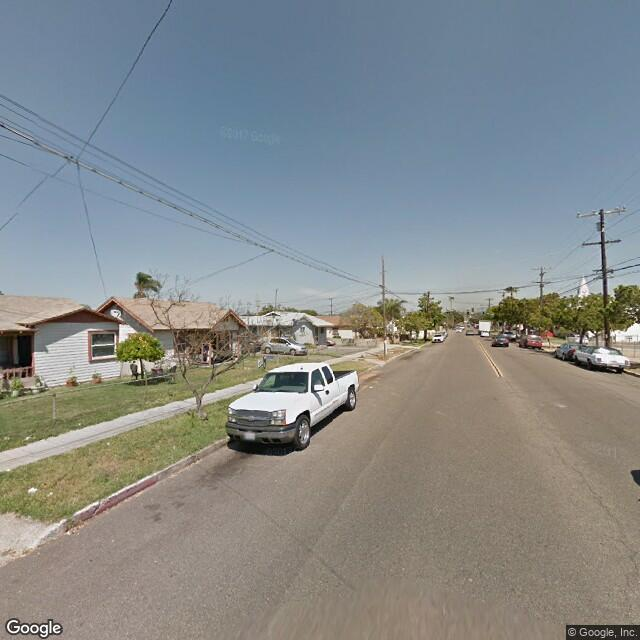litter: (104, 437, 112, 446), (28, 487, 35, 494)
